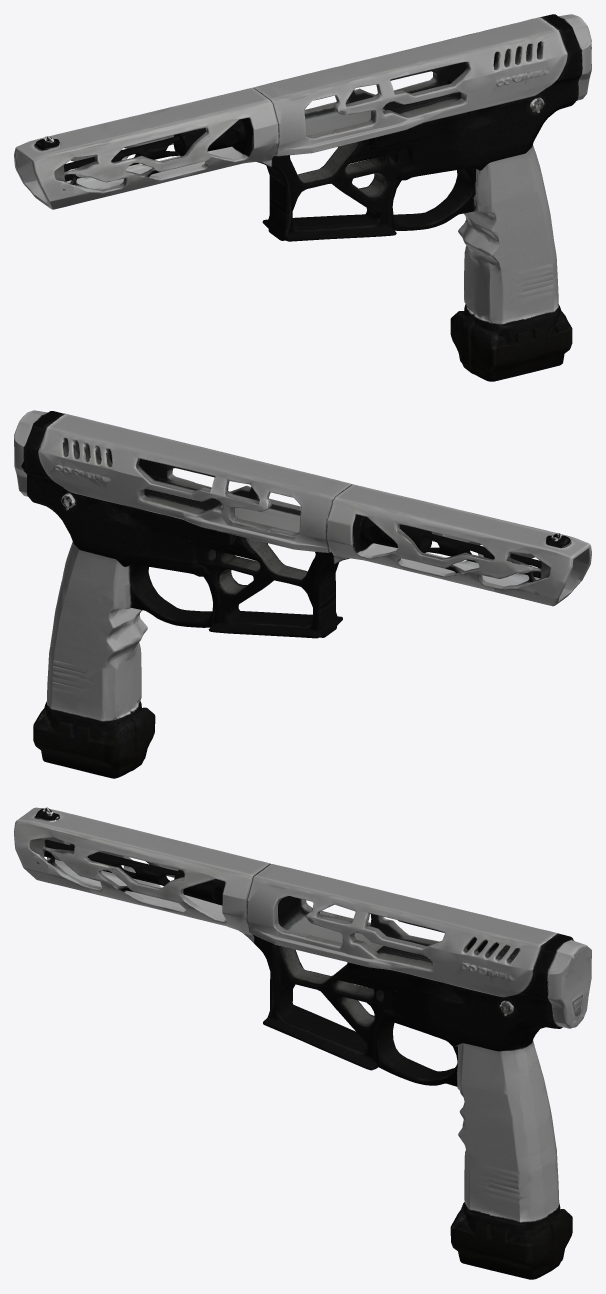
The model's file is pistol.glb.
The picture shows the model from 3 angles, top to bottom: view 1: azimuth 30°, elevation 25°; view 2: azimuth 150°, elevation 25°; view 3: azimuth 330°, elevation 25°; orthographic projection.
Parts seen in each view (by area): view 1: tripo_node_ea3d9b2f-f863-4c10-9df9-7b87fc782194; view 2: tripo_node_ea3d9b2f-f863-4c10-9df9-7b87fc782194; view 3: tripo_node_ea3d9b2f-f863-4c10-9df9-7b87fc782194.
Boxes of the visible parts, bbox=[...] form: tripo_node_ea3d9b2f-f863-4c10-9df9-7b87fc782194: bbox=[14, 14, 591, 381]; tripo_node_ea3d9b2f-f863-4c10-9df9-7b87fc782194: bbox=[14, 410, 591, 778]; tripo_node_ea3d9b2f-f863-4c10-9df9-7b87fc782194: bbox=[14, 807, 591, 1279].
Size of the model in its own units: 0.9998 by 0.5837 by 0.1369.
1 material, 1 textured.
